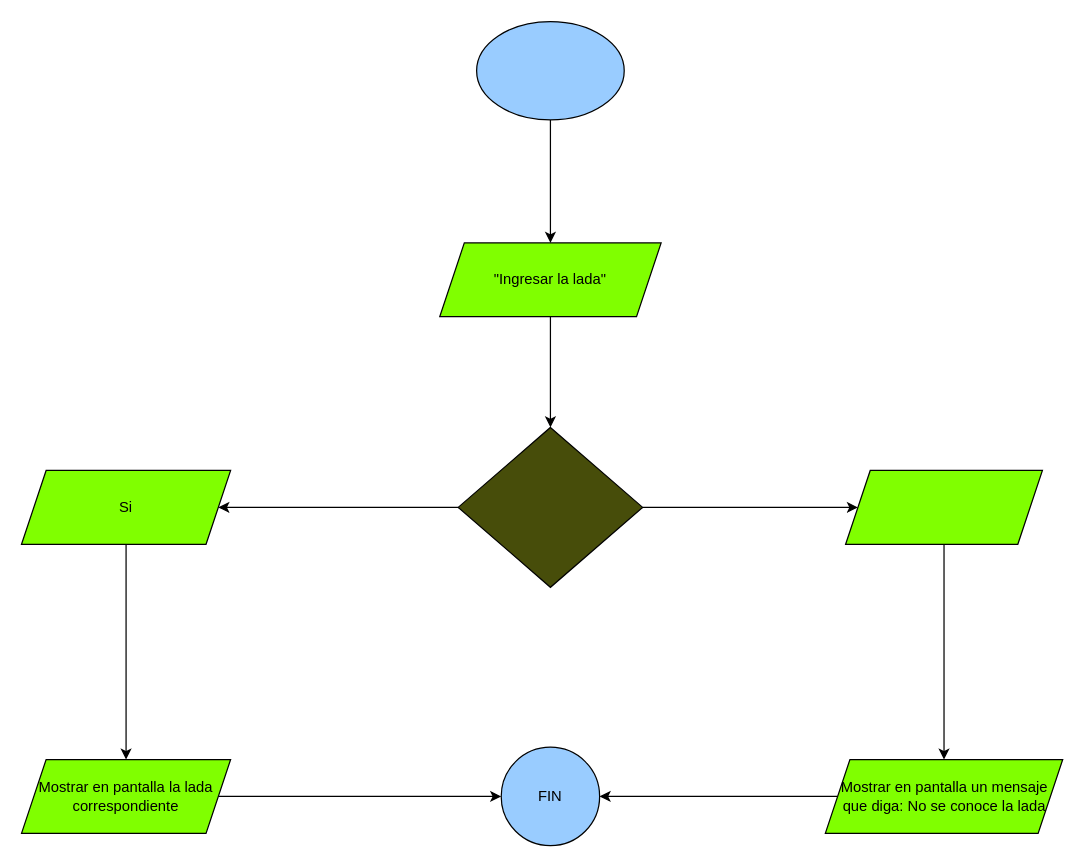
Image size: 1085x867. Some labels were removed from this diagram. Here are the shapes that lost their labels. From the top down, the centre of each, then its label:
At (x=549, y=70): "Inicio".
At (x=550, y=506): "¿Se ingreso una lada disponible?".
At (x=943, y=506): "No".
